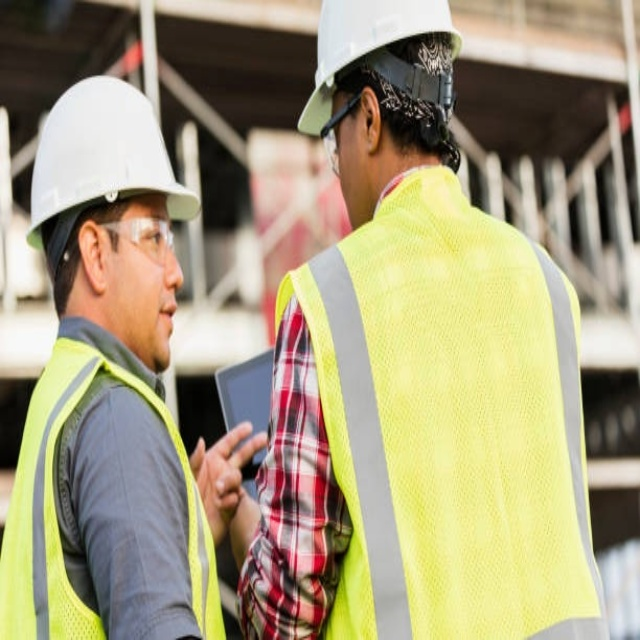Gafas: (318, 91, 366, 185), (94, 216, 177, 258)
Sin_guantes: (190, 419, 266, 546)
Sin_mascara: (145, 290, 176, 360)
